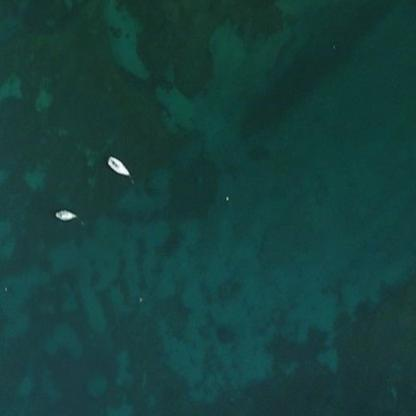ship: (101, 151, 135, 182), (49, 204, 78, 226)
